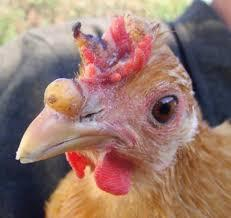AbNormal: (71, 15, 163, 82)
